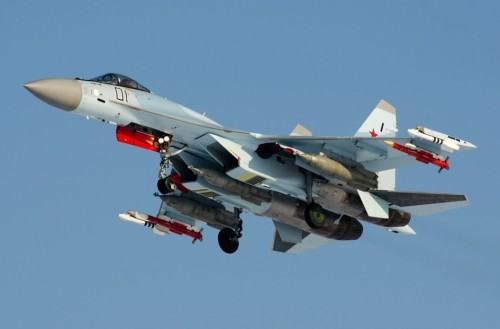airplane: (19, 74, 479, 256)
